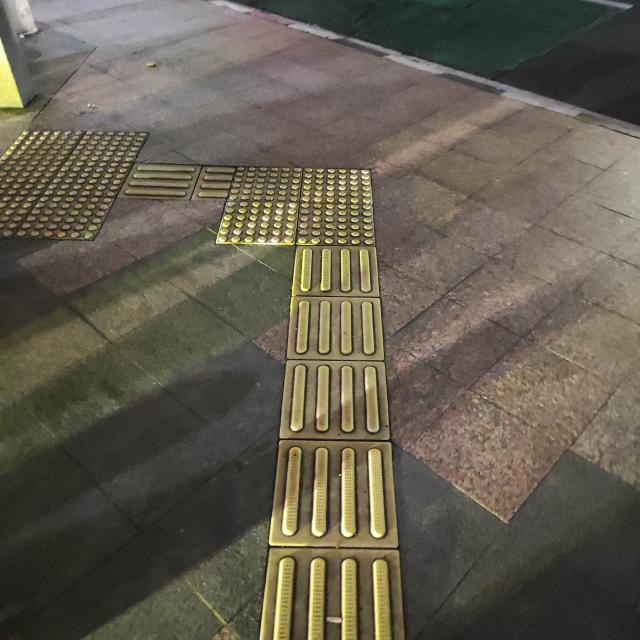kiri: (155, 152, 387, 285)
